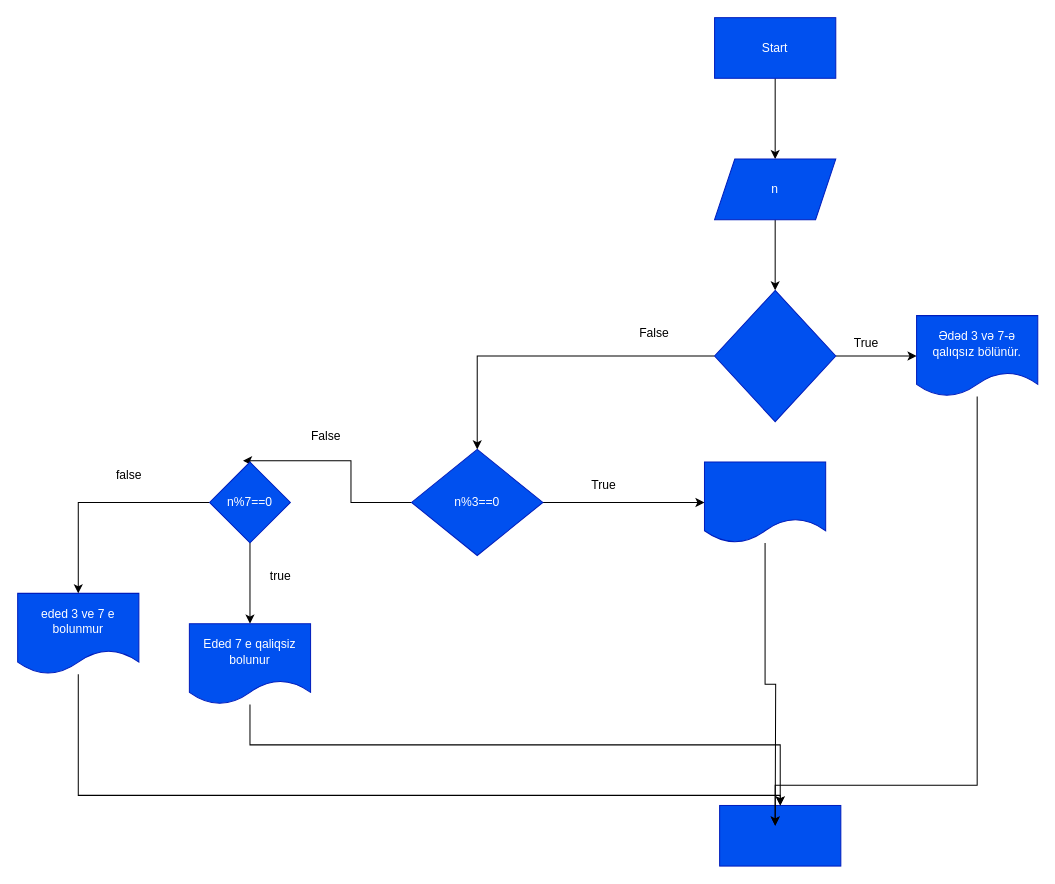
This 1055x884 diagram has some shape labels left out. The shapes that lost their labels are listed below. From the top down, each one's centre as x and y in pixels, then its label:
At pixel 775 355: "21%n==0".
At pixel 764 502: "Ədəd 3ə qalıqsız bölünür".
At pixel 780 835: "Son".
